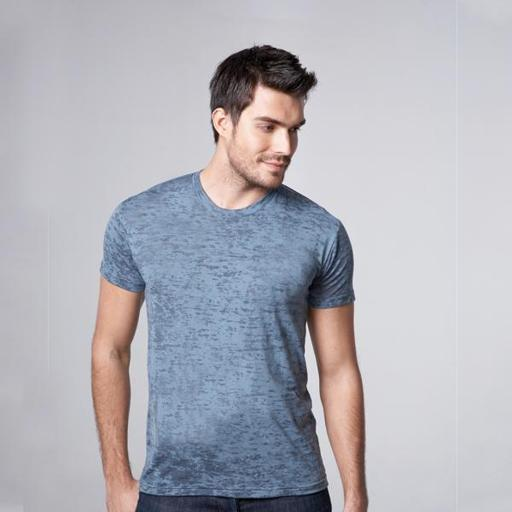T-shirt: (91, 168, 373, 505)
